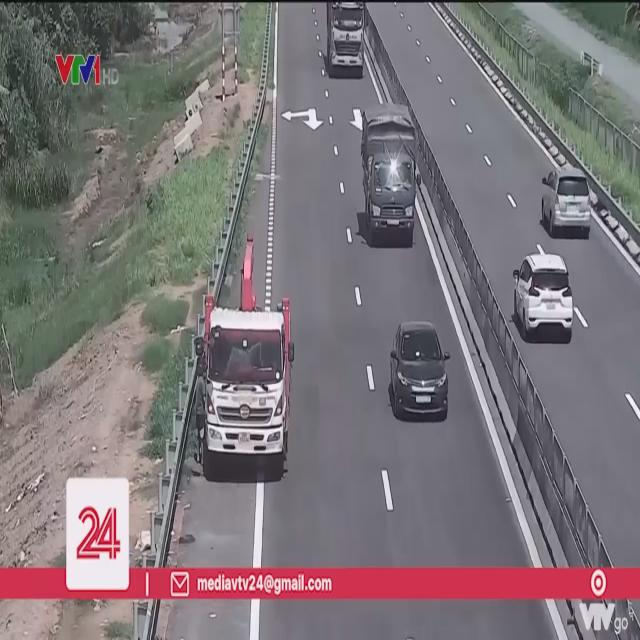car: (389, 322, 452, 423), (512, 250, 576, 343), (538, 167, 595, 240)
truck: (201, 276, 293, 480), (360, 106, 418, 248), (329, 4, 365, 71)
